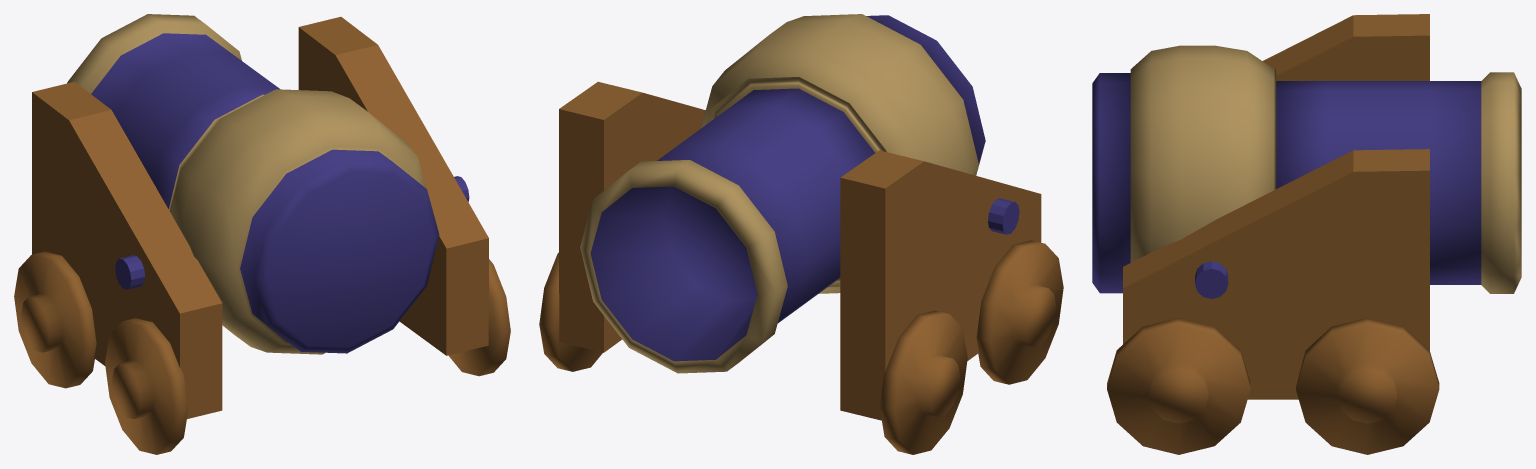
Rendered from canon.fbx.
3 views of the same model, side by side, from view 1: azimuth 30°, elevation 25°; view 2: azimuth 150°, elevation 25°; view 3: azimuth 270°, elevation 25° (orthographic). The views are drawn at different scales.
Visible parts, largest first — view 1: Canon, frame R, frame L, wheel R rear, whell R front, wheel L rear, joint; view 2: Canon, frame R, frame L, whell R front, wheel R rear, wheel L front, joint; view 3: Canon, frame L, wheel L front, wheel L rear, frame R, joint.
Part boxes in pixels (x1,y1,x2,y2): Canon: [67, 14, 439, 354]; frame R: [32, 81, 222, 418]; frame L: [298, 16, 488, 355]; wheel R rear: [105, 318, 188, 454]; whell R front: [14, 251, 96, 388]; wheel L rear: [448, 259, 510, 376]; joint: [115, 176, 469, 289]; Canon: [580, 14, 985, 373]; frame R: [840, 150, 1041, 420]; frame L: [559, 81, 705, 352]; whell R front: [879, 310, 967, 454]; wheel R rear: [976, 240, 1063, 384]; wheel L front: [539, 252, 602, 371]; joint: [988, 198, 1019, 234]; Canon: [1092, 45, 1521, 293]; frame L: [1123, 149, 1429, 399]; wheel L front: [1296, 318, 1439, 454]; wheel L rear: [1107, 318, 1250, 454]; frame R: [1262, 14, 1429, 80]; joint: [1195, 261, 1228, 298].
Bounding box in the file's own units: 213 × 168 × 210.
